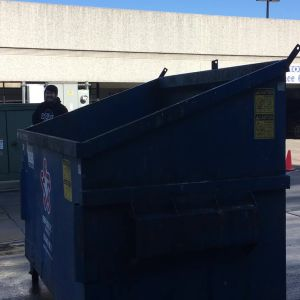Dumpster: (13, 34, 299, 300)
Person: (27, 77, 72, 130)
